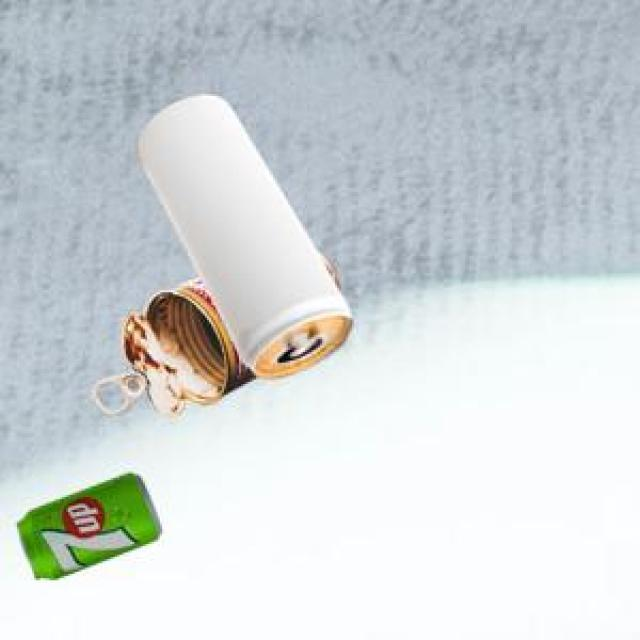Can: (133, 93, 349, 377), (91, 249, 336, 413), (14, 470, 159, 577)
